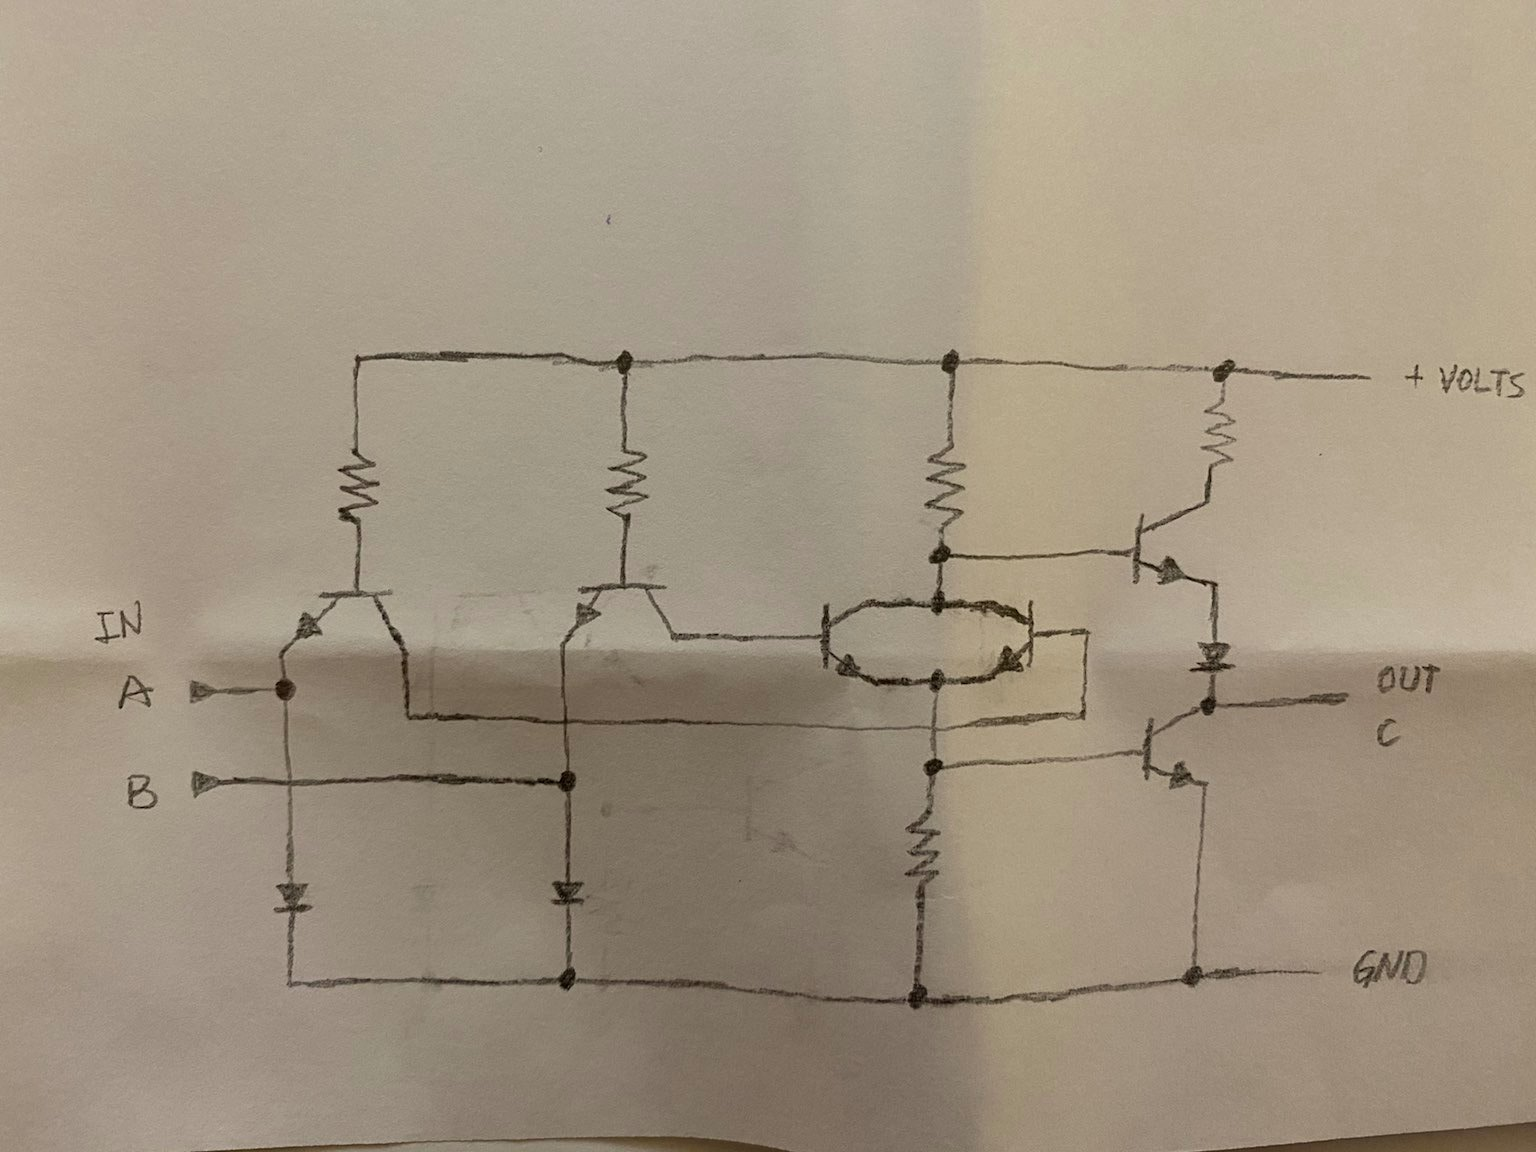diode: (258, 872, 321, 923), (1186, 630, 1242, 679), (545, 871, 594, 918)
junction: (929, 339, 982, 387), (1171, 950, 1217, 1003), (597, 339, 652, 384), (1199, 342, 1249, 388), (542, 760, 591, 806), (911, 748, 959, 789), (893, 975, 936, 1020), (266, 762, 316, 800), (1066, 617, 1111, 657), (548, 699, 591, 741), (919, 658, 960, 702), (545, 961, 588, 1000), (907, 708, 957, 741), (268, 669, 308, 709), (1183, 689, 1230, 721), (336, 341, 379, 378), (923, 536, 962, 574), (385, 695, 431, 726), (1066, 695, 1102, 728), (919, 587, 957, 618), (275, 963, 306, 1000)
resistor: (912, 436, 980, 531), (893, 803, 951, 903), (324, 440, 385, 531), (600, 438, 659, 528), (1197, 394, 1248, 476)
terminal: (181, 666, 241, 713), (1306, 676, 1364, 718), (181, 764, 243, 801), (1282, 954, 1336, 987), (1338, 363, 1390, 392)
text: (1345, 941, 1434, 997), (1437, 357, 1530, 407), (1373, 653, 1447, 702), (87, 593, 145, 653), (119, 765, 167, 817), (108, 670, 158, 718), (1372, 712, 1408, 754), (1399, 361, 1427, 393)
transistor: (258, 586, 425, 661), (552, 574, 681, 652), (1116, 501, 1226, 589), (809, 591, 891, 689), (972, 591, 1043, 687), (1132, 708, 1201, 793)
